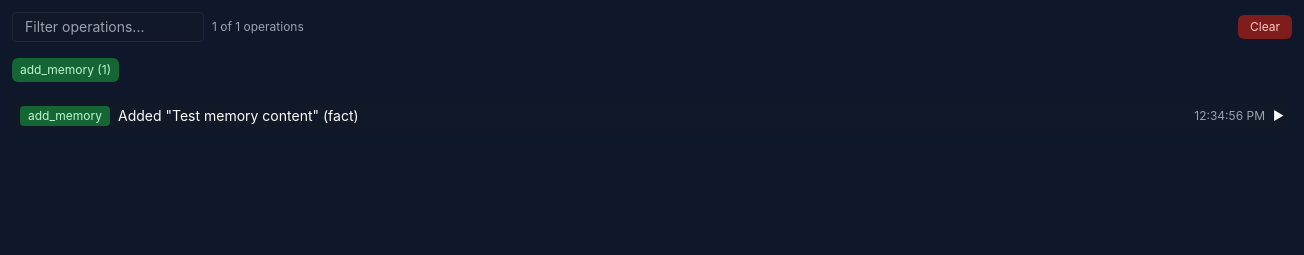
Test: MemoryOperationsLog › expands operation details when clicked
Check: the text "\"memory_id\": \"memory_123\"" is not shown
// Click the operation to expand it
Step 1. Click the text "Added \"Test memory content\" (fact)" → x=238, y=116, box left=118, top=106, right=359, bottom=126
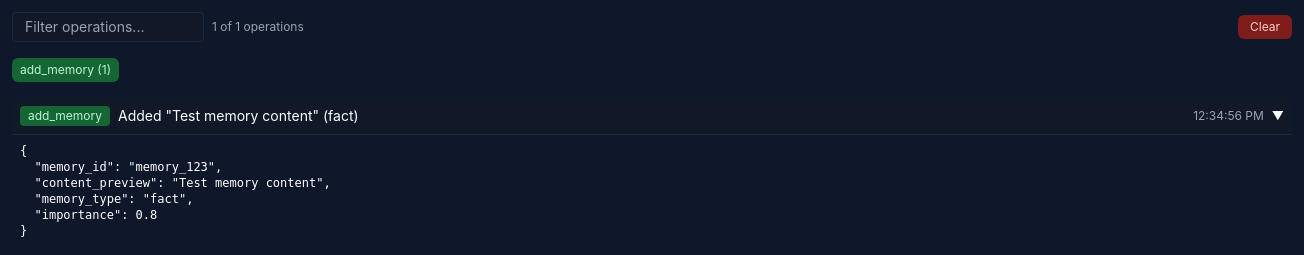
Check: the text "\"memory_id\": \"memory_123\"" is shown, box left=20, top=144, right=331, bottom=238
